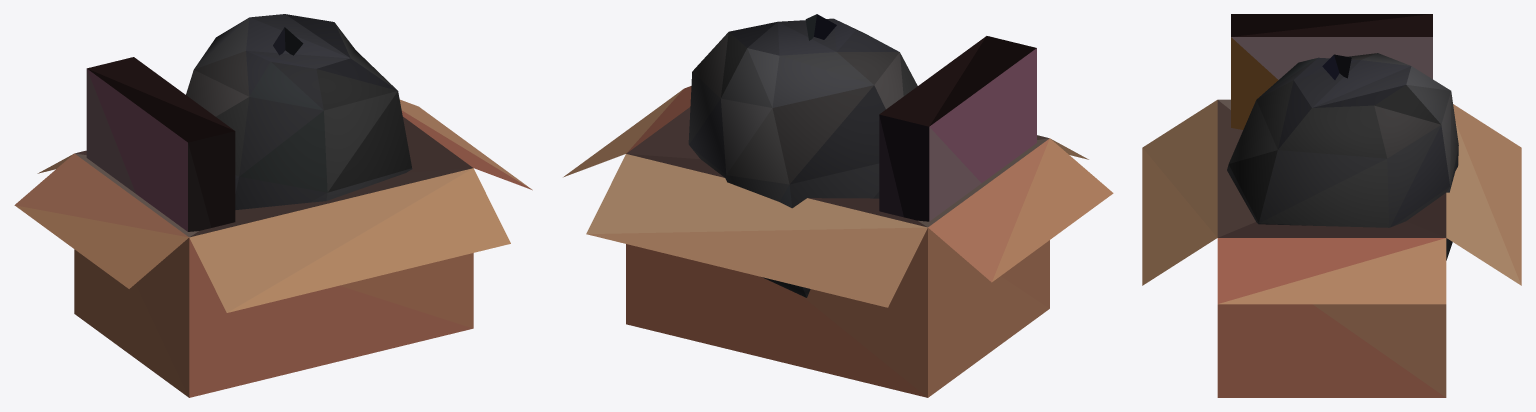
The model's file is gs_trash_bags.glb.
The picture shows the model from 3 angles, left to right: view 1: azimuth 30°, elevation 25°; view 2: azimuth 150°, elevation 25°; view 3: azimuth 270°, elevation 25°; orthographic projection. The views are drawn at different scales.
Visible parts, largest first — view 1: Trash; view 2: Trash; view 3: Trash.
Part boxes in pixels (bbox=[...]): Trash: bbox=[14, 14, 532, 397]; Trash: bbox=[563, 14, 1113, 397]; Trash: bbox=[1142, 14, 1521, 397].
Size of the model in its own units: 0.951 by 0.6338 by 0.7743.
